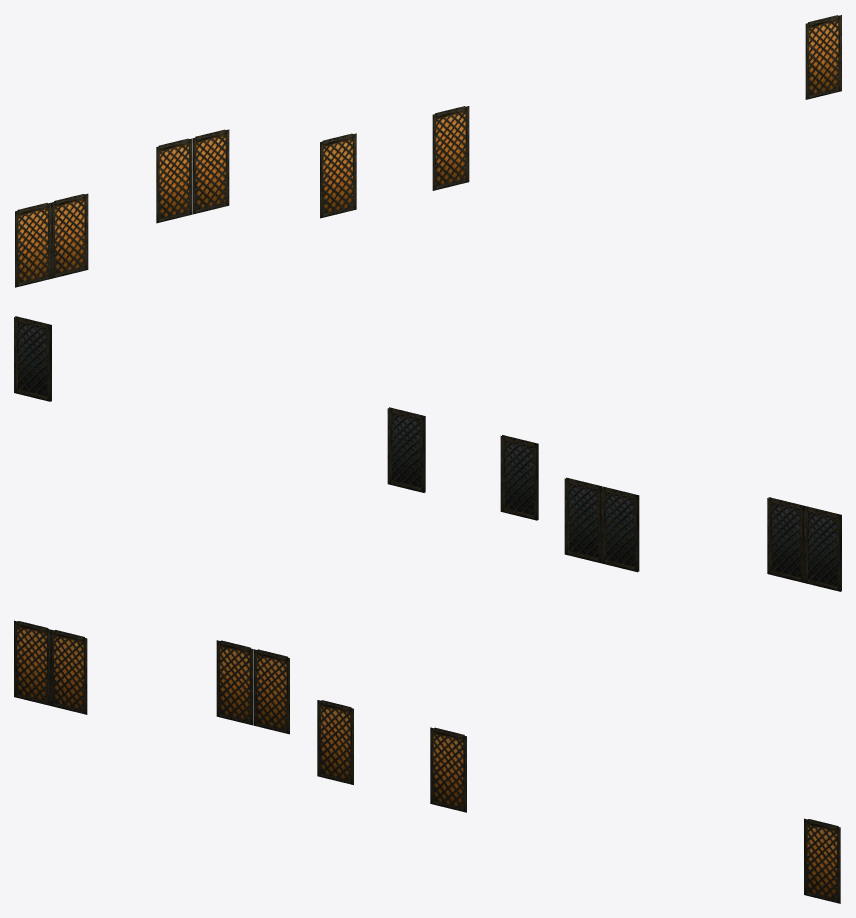
Rendered from LAKETOWN_EXTERIOR_PS_LT_WINDOW_LONG_LOD1_03.fbx.
3 renders of one model, top to bottom at view 1: azimuth 30°, elevation 25°; view 2: azimuth 150°, elevation 25°; view 3: azimuth 330°, elevation 25°, orthographic.
Visible parts, largest first — view 1: LAKETOWN_EXTERIOR_PS_LT_WINDOW_LONG_LOD1_03; view 2: LAKETOWN_EXTERIOR_PS_LT_WINDOW_LONG_LOD1_03; view 3: LAKETOWN_EXTERIOR_PS_LT_WINDOW_LONG_LOD1_03.
Part boxes in pixels (x1,y1,x2,y2): LAKETOWN_EXTERIOR_PS_LT_WINDOW_LONG_LOD1_03: [15, 15, 841, 287]; LAKETOWN_EXTERIOR_PS_LT_WINDOW_LONG_LOD1_03: [14, 316, 841, 591]; LAKETOWN_EXTERIOR_PS_LT_WINDOW_LONG_LOD1_03: [14, 620, 840, 903].
Size of the model in its own units: 168318 by 15629 by 11609.
2 materials, 2 textured.
